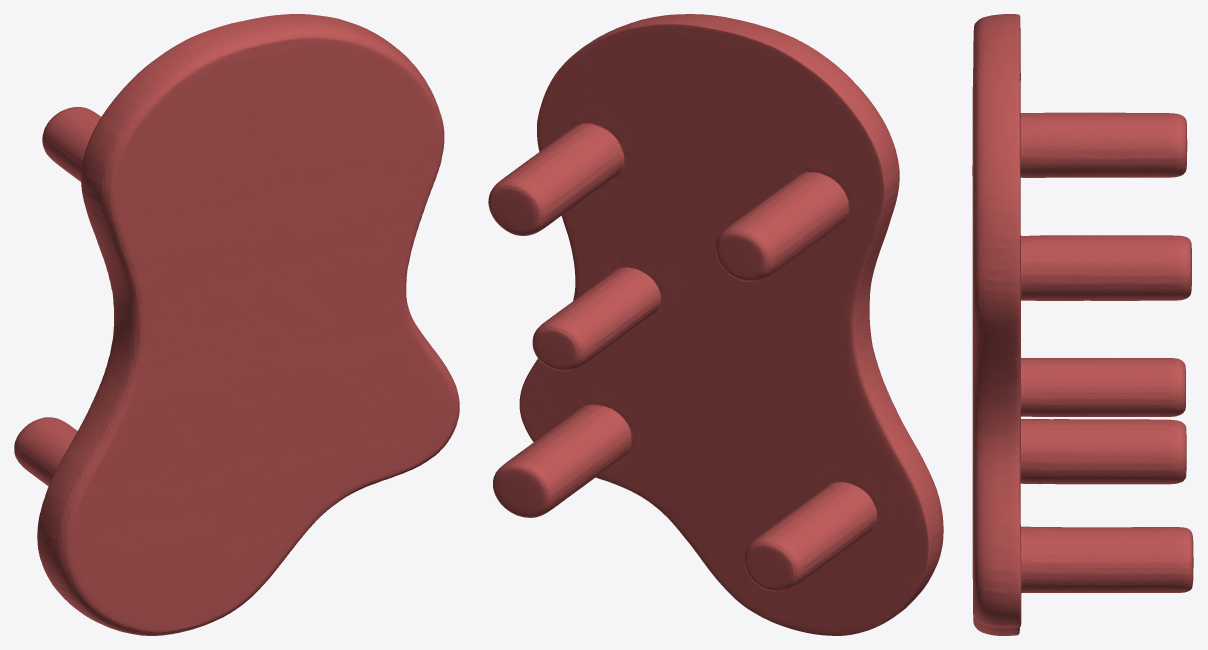
Rendered from hulls.glb.
3 views of the same model, side by side, from view 1: azimuth 30°, elevation 25°; view 2: azimuth 150°, elevation 25°; view 3: azimuth 270°, elevation 25° (orthographic). The views are drawn at different scales.
Bounding box in the file's own units: 0.8392 × 1.14 × 0.3702.
